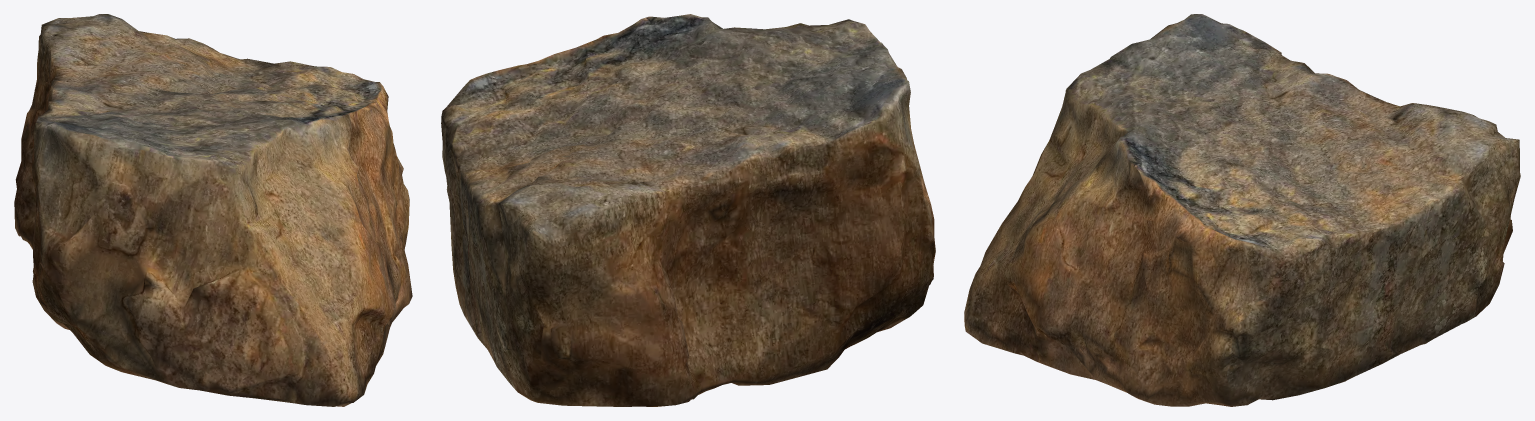
Rendered from namaqualand_boulder_03.light.glb.
3 renders of one model, left to right at view 1: azimuth 30°, elevation 25°; view 2: azimuth 150°, elevation 25°; view 3: azimuth 270°, elevation 25°, orthographic. The views are drawn at different scales.
Parts seen in each view (by area): view 1: boulder_03_LOD0; view 2: boulder_03_LOD0; view 3: boulder_03_LOD0.
Part boxes in pixels (bbox=[...]): boulder_03_LOD0: bbox=[14, 14, 412, 406]; boulder_03_LOD0: bbox=[441, 14, 935, 406]; boulder_03_LOD0: bbox=[964, 14, 1520, 406].
Bounding box in the file's own units: 1.57 × 0.9609 × 2.
1 material, 1 textured.
